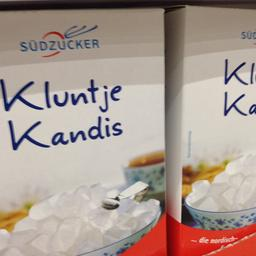sugar: (0, 4, 168, 254), (164, 1, 254, 250)
